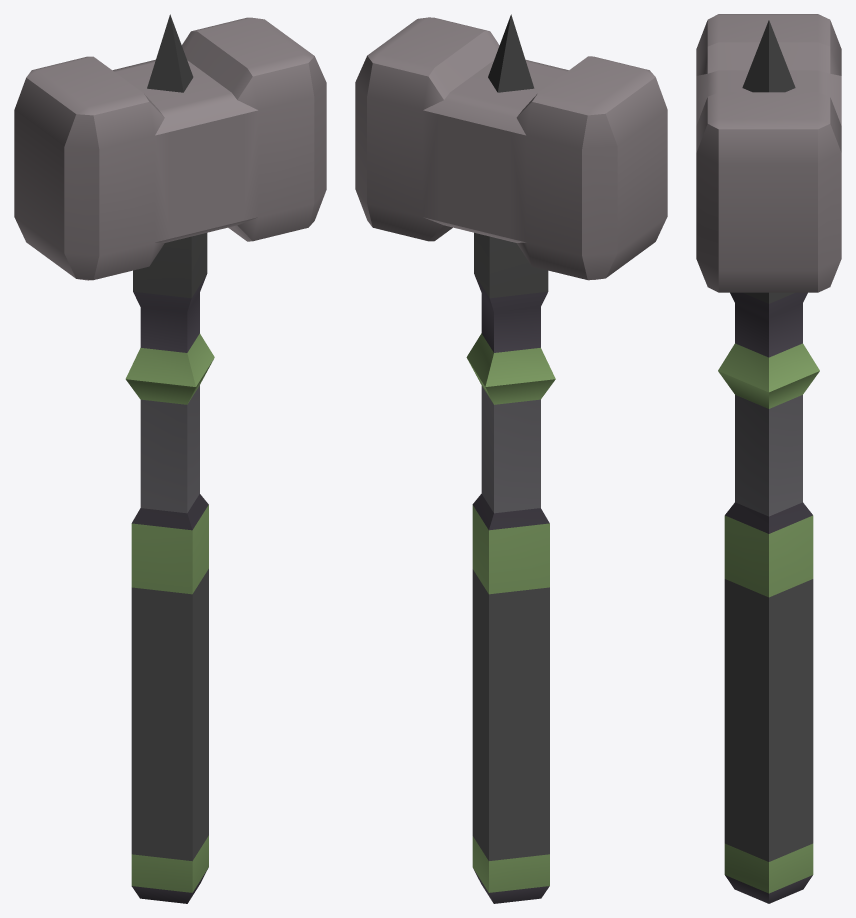
File: Mace_6.fbx
The picture shows the model from 3 angles, left to right: view 1: azimuth 30°, elevation 25°; view 2: azimuth 150°, elevation 25°; view 3: azimuth 270°, elevation 25°; orthographic projection.
Parts seen in each view (by area): view 1: polySurface246; view 2: polySurface246; view 3: polySurface246.
Part boxes in pixels (left/top/right/bottom): polySurface246: left=14, top=14, right=326, bottom=903; polySurface246: left=355, top=14, right=667, bottom=903; polySurface246: left=696, top=14, right=841, bottom=903.
Bounding box in the file's own units: 61.84 × 198 × 29.9.
